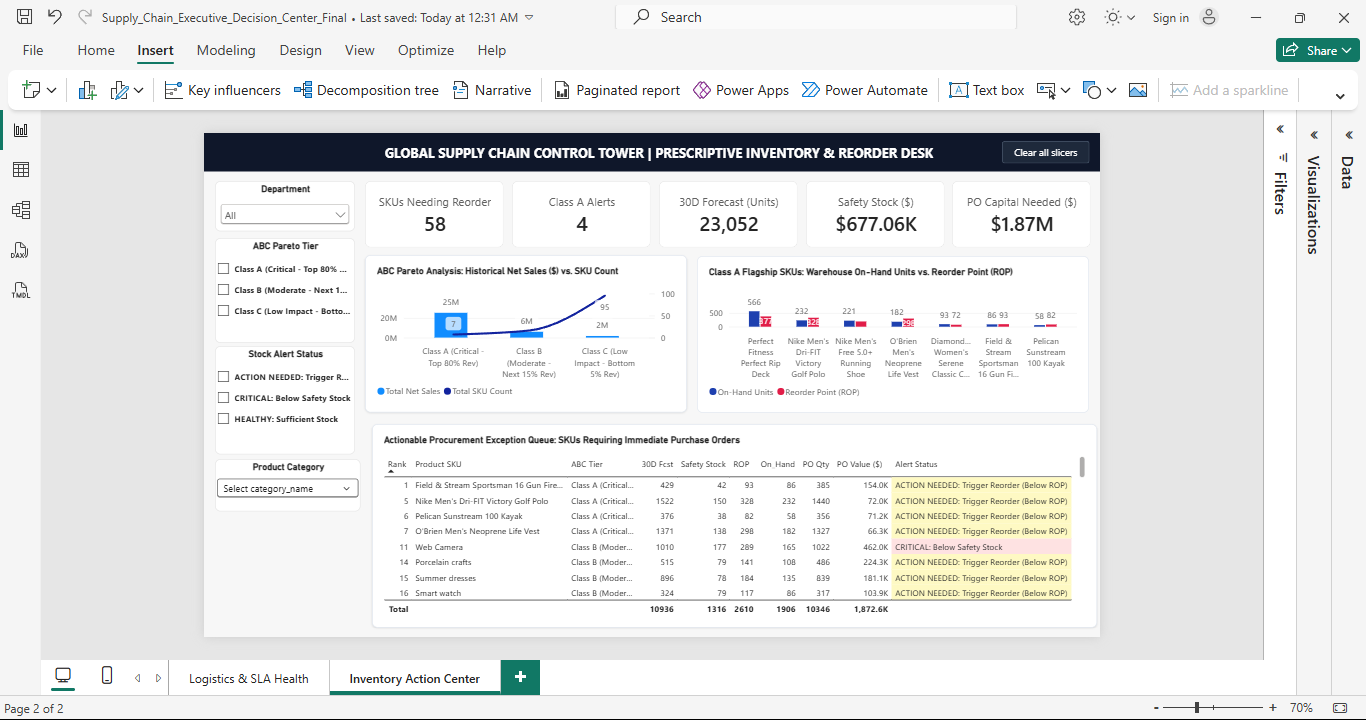

Layout of this report page (visuals, bound fields, positions):
{"tool":"powerbi","page":{"name":"Inventory Action Center","canvas":[1280,720],"ordinal":1},"visuals":[{"type":"shape","box":[0,0,1280,55],"z":0},{"type":"cardVisual","fields":{"Data":["_Measures.SKUs Needing Reorder"]},"box":[230,68,198,95],"z":1000},{"type":"cardVisual","fields":{"Data":["_Measures.Class A Alerts"]},"box":[440,68,198,95],"z":2000},{"type":"cardVisual","fields":{"Data":["_Measures.30D Forecast (Units)"]},"box":[650,68,198,95],"z":3000},{"type":"cardVisual","fields":{"Data":["_Measures.Safety Stock ($)"]},"box":[860,68,198,95],"z":4000},{"type":"cardVisual","fields":{"Data":["_Measures.PO Capital Needed ($)"]},"box":[1068,68,198,95],"z":5000},{"type":"slicer","title":"Department","fields":{"Values":["silver_dim_products.department_name"]},"box":[15,68,200,72],"z":6000},{"type":"listSlicer","title":"ABC Pareto Tier","fields":{"Values":["gold_sku_rop_optimization.abc_class"]},"box":[16,150,200,150],"z":7000},{"type":"listSlicer","title":"Stock Alert Status","fields":{"Values":["gold_sku_rop_optimization.inventory_status"]},"box":[16,304,200,155],"z":8000},{"type":"listSlicer","title":"Product Category","fields":{"Values":["silver_dim_products.category_name"]},"box":[16,465,208,75],"z":9000},{"type":"lineClusteredColumnComboChart","title":"ABC Pareto Analysis: Historical Net Sales ($) vs. SKU Count","fields":{"Category":["gold_sku_rop_optimization.abc_class"],"Y":["_Measures.Total Net Sales"],"Y2":["_Measures.Total SKU Count"]},"box":[230,175,460,225],"z":9001},{"type":"clusteredColumnChart","title":"Class A Flagship SKUs: Warehouse On-Hand Units vs. Reorder Point (ROP)","fields":{"Category":["gold_sku_rop_optimization.product_name"],"Y":["Sum(gold_sku_rop_optimization.simulated_on_hand_units)","Sum(gold_sku_rop_optimization.reorder_point_rop_units)"]},"box":[704,176,560,224],"z":9002},{"type":"tableEx","title":"Actionable Procurement Exception Queue: SKUs Requiring Immediate Purchase Orders","fields":{"Values":["gold_sku_rop_optimization.revenue_rank","gold_sku_rop_optimization.product_name","gold_sku_rop_optimization.abc_class","_Measures.30D Forecast (Units)","Sum(gold_sku_rop_optimization.safety_stock_units)","Sum(gold_sku_rop_optimization.reorder_point_rop_units)","Sum(gold_sku_rop_optimization.simulated_on_hand_units)","Sum(gold_sku_rop_optimization.recommended_po_qty)","Sum(gold_sku_rop_optimization.recommended_po_value_usd)","gold_sku_rop_optimization.inventory_status"]},"box":[240,416,1036,291],"z":9003},{"type":"actionButton","box":[1140,12,125,32],"z":9004}]}

Visuals, with their boxes on the page's 1280x720 design canvas (x1, y1, x2, y2). These are canvas units, not pixel positions in the 1366x720 screenshot, which may show the page scaled, cropped or inside an application window:
shape: (0, 0, 1280, 55)
cardVisual - _Measures.SKUs Needing Reorder: (230, 68, 428, 163)
cardVisual - _Measures.Class A Alerts: (440, 68, 638, 163)
cardVisual - _Measures.30D Forecast (Units): (650, 68, 848, 163)
cardVisual - _Measures.Safety Stock ($): (860, 68, 1058, 163)
cardVisual - _Measures.PO Capital Needed ($): (1068, 68, 1266, 163)
"Department" slicer: (15, 68, 215, 140)
"ABC Pareto Tier" listSlicer: (16, 150, 216, 300)
"Stock Alert Status" listSlicer: (16, 304, 216, 459)
"Product Category" listSlicer: (16, 465, 224, 540)
"ABC Pareto Analysis: Historical Net Sales ($) vs. SKU Count" lineClusteredColumnComboChart: (230, 175, 690, 400)
"Class A Flagship SKUs: Warehouse On-Hand Units vs. Reorder Point (ROP)" clusteredColumnChart: (704, 176, 1264, 400)
"Actionable Procurement Exception Queue: SKUs Requiring Immediate Purchase Orders" tableEx: (240, 416, 1276, 707)
actionButton: (1140, 12, 1265, 44)
